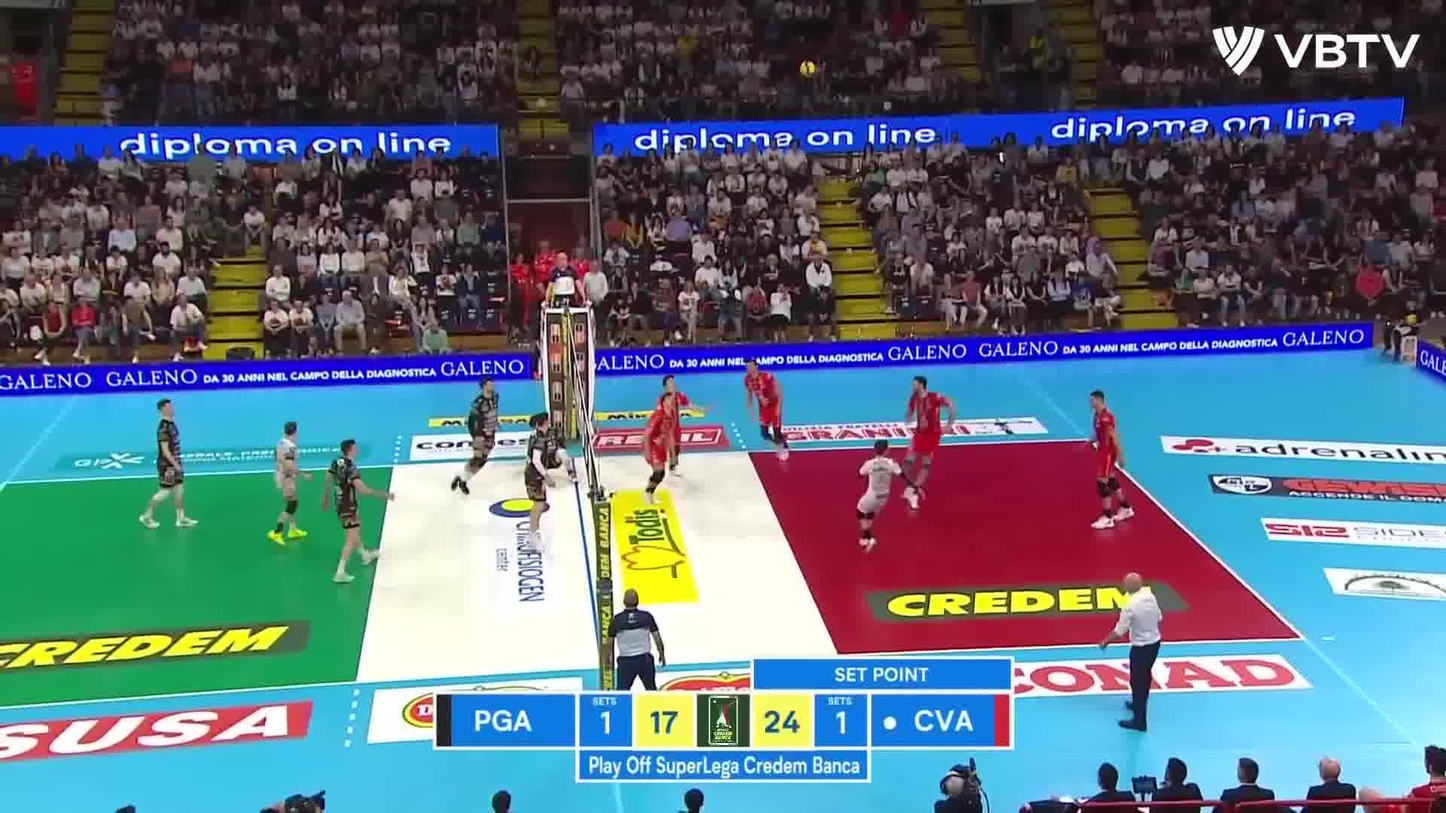balls: (795, 56, 821, 82)
